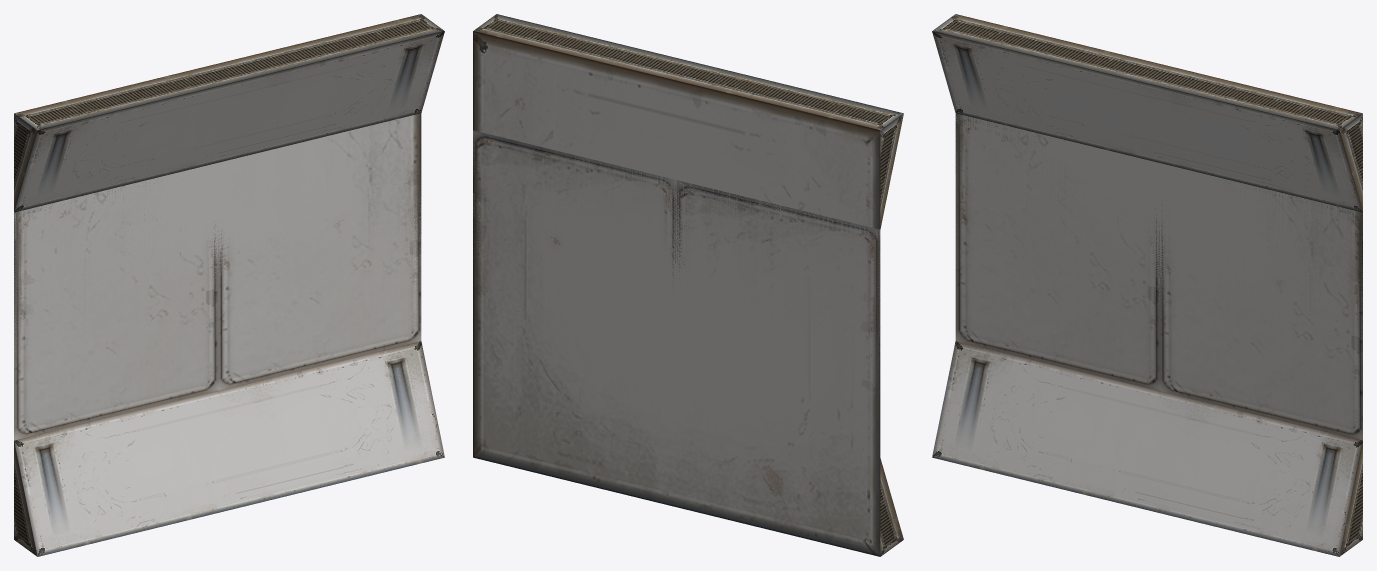
The model's file is scifi_wall9_9.FBX.
The picture shows the model from 3 angles, left to right: view 1: azimuth 30°, elevation 25°; view 2: azimuth 150°, elevation 25°; view 3: azimuth 330°, elevation 25°; orthographic projection.
Visible parts, largest first — view 1: Plane173; view 2: Plane173; view 3: Plane173.
Boxes of the visible parts, x1=… form: Plane173: x1=14, y1=14, x2=444, y2=556; Plane173: x1=473, y1=14, x2=903, y2=556; Plane173: x1=932, y1=14, x2=1362, y2=556.
Bounding box in the file's own units: 254 × 254 × 25.4.
